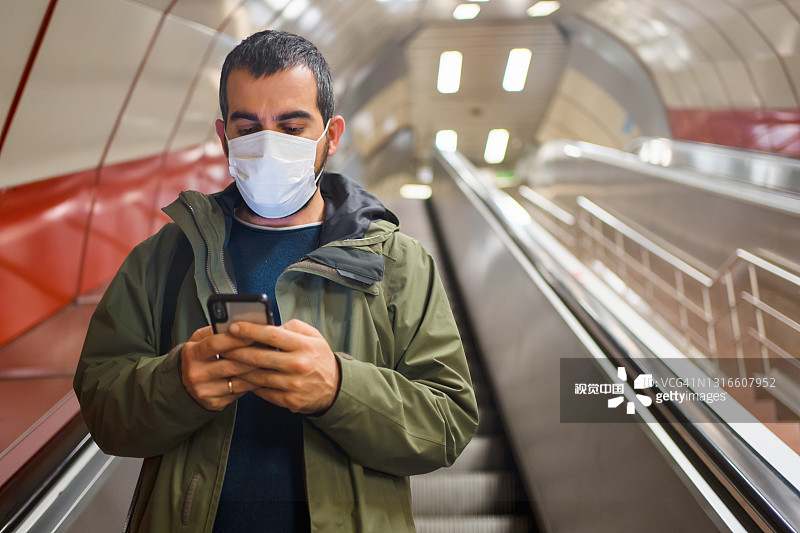reading: (162, 284, 348, 426)
